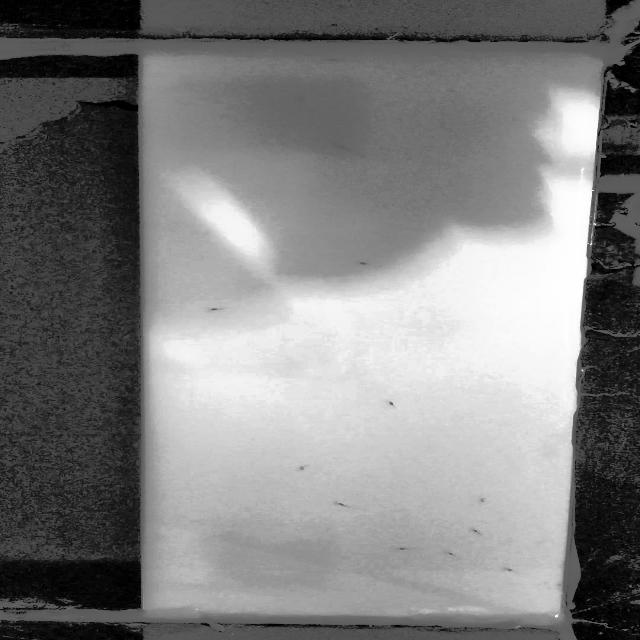shrimp: (331, 140, 363, 154), (355, 260, 392, 270), (382, 398, 402, 415), (321, 54, 348, 64), (293, 464, 318, 472), (293, 96, 311, 106), (336, 502, 358, 510), (500, 566, 521, 574), (208, 306, 236, 312), (470, 528, 485, 538), (475, 497, 489, 506), (396, 547, 412, 553), (446, 551, 457, 556)
